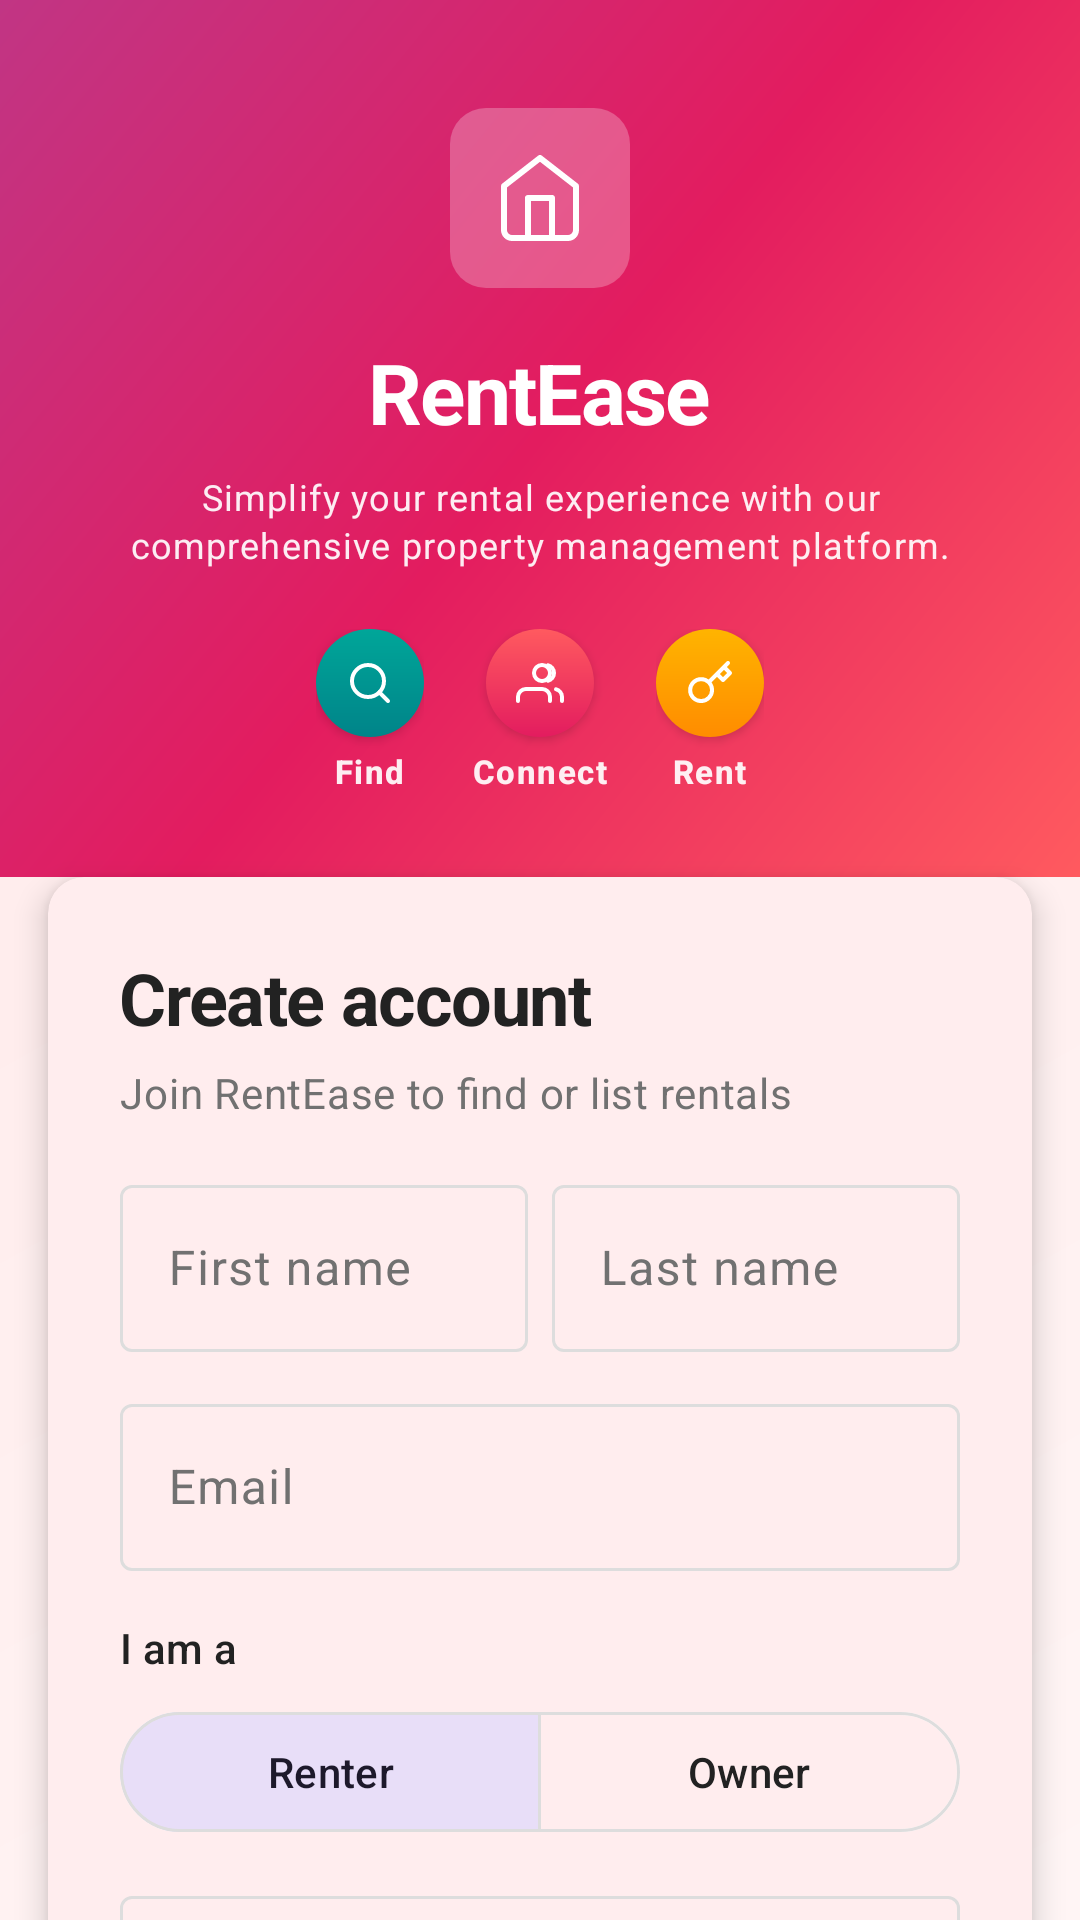

Icon click points for this 1080x1920 phone screenshot, format [x,y]:
brand house: [540,198]
